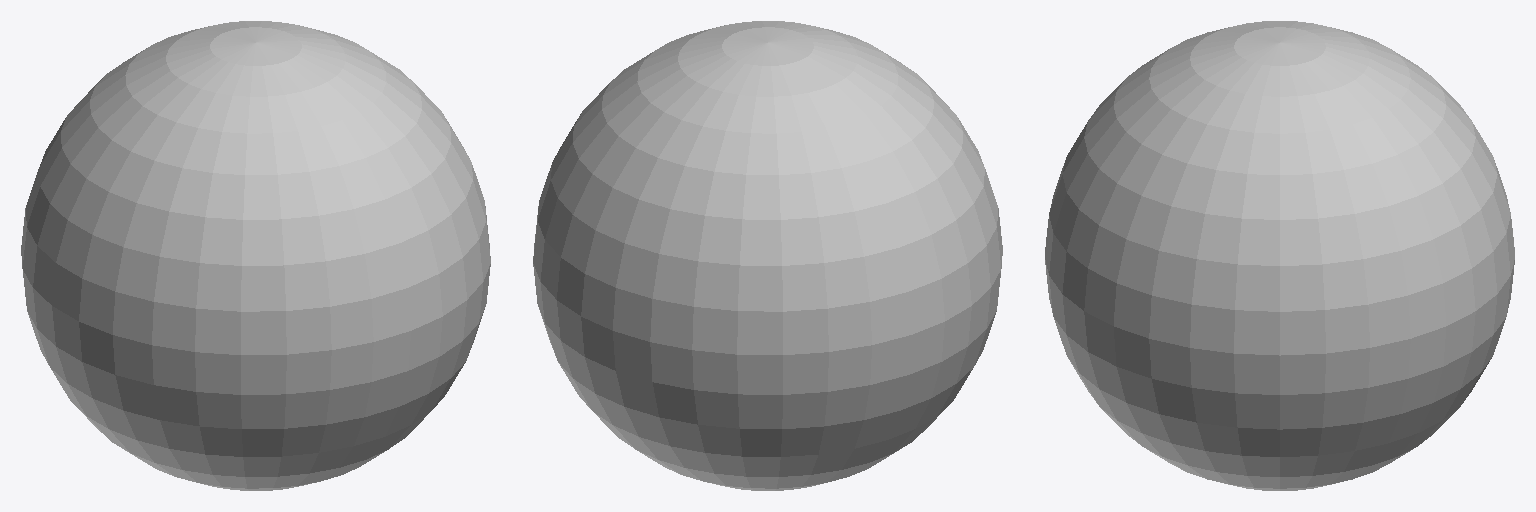
The model's file is target_v1.obj.
3 renders of one model, left to right at view 1: azimuth 30°, elevation 25°; view 2: azimuth 150°, elevation 25°; view 3: azimuth 270°, elevation 25°, orthographic.
Bounding box in the file's own units: 20 × 20 × 20.